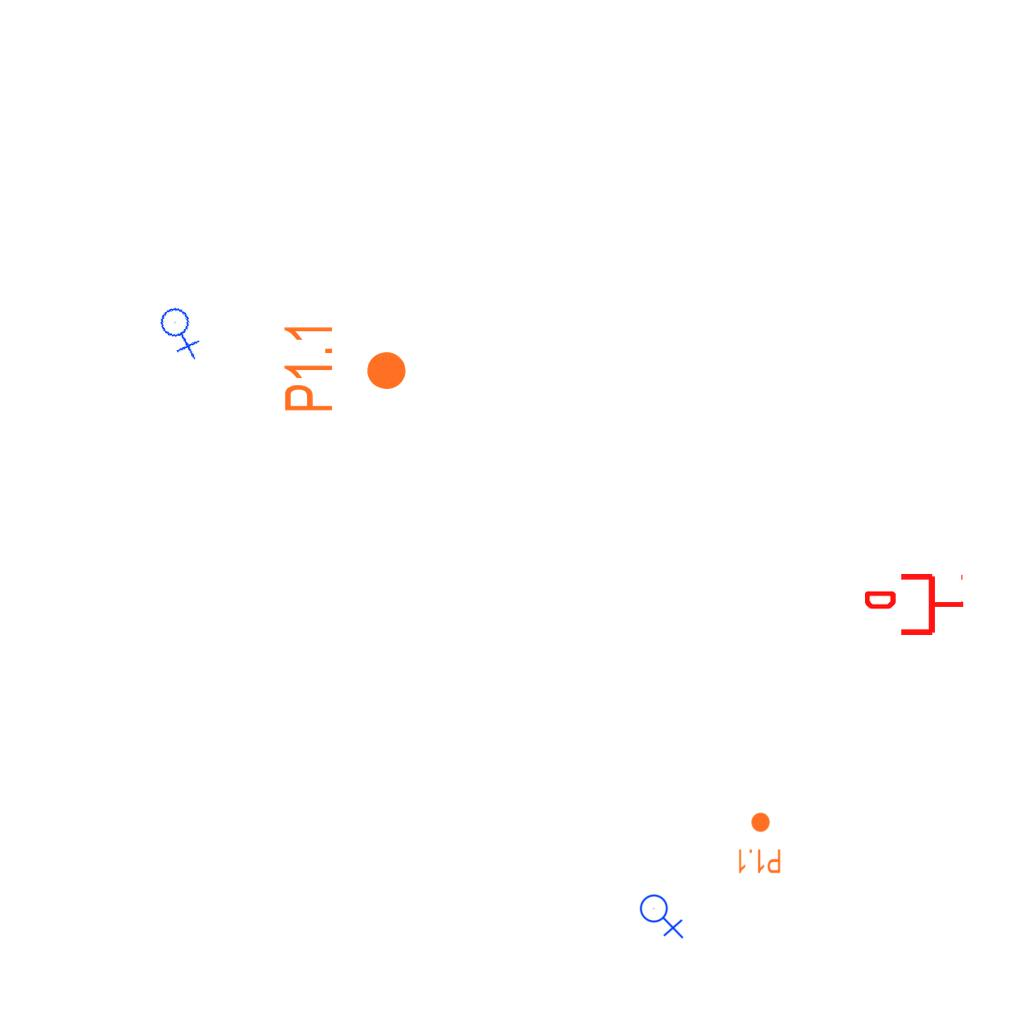Datenanschluss_einfach: (865, 570, 965, 639)
Downlight_LED_Einbauleuchten_Flur: (281, 321, 409, 414), (736, 811, 782, 875)
Elektroanschluss_allgemein_230V_Geraeteanschlussdose_230V: (152, 300, 211, 361), (639, 890, 686, 939)
